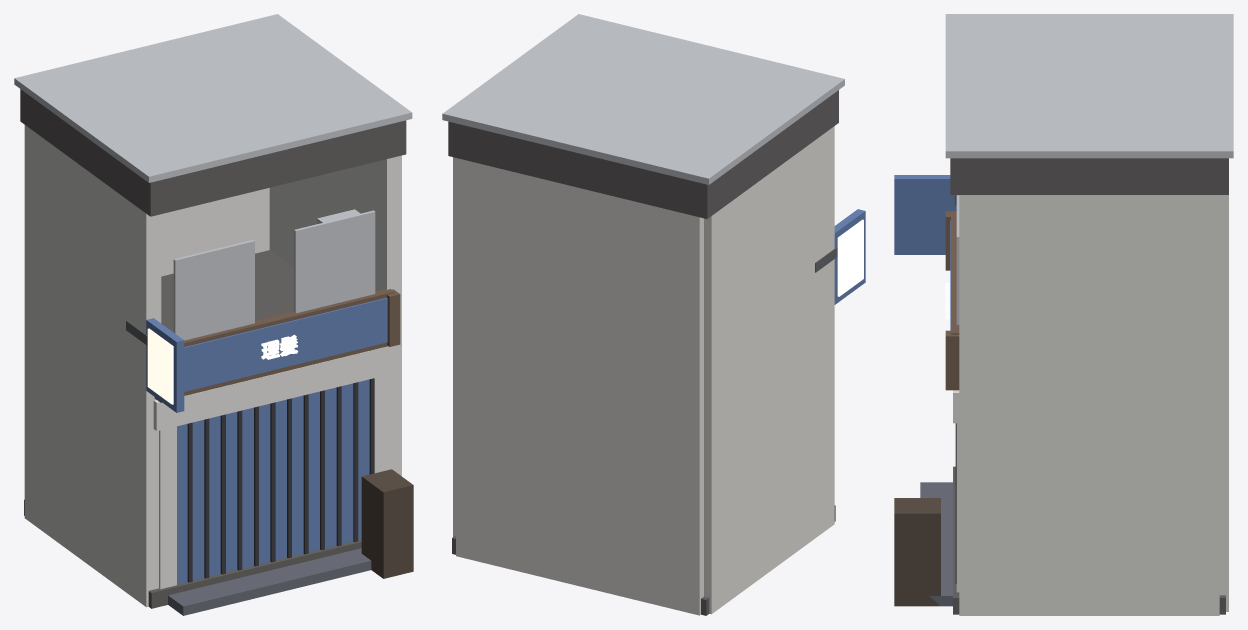
The model's file is prop_shop_tokoya_closed.glb.
The picture shows the model from 3 angles, left to right: view 1: azimuth 30°, elevation 25°; view 2: azimuth 150°, elevation 25°; view 3: azimuth 270°, elevation 25°; orthographic projection. The views are drawn at different scales.
Visible parts, largest first — view 1: shop_tokoya_closed; view 2: shop_tokoya_closed; view 3: shop_tokoya_closed.
Boxes of the visible parts, x1=… form: shop_tokoya_closed: x1=14, y1=14, x2=413, y2=615; shop_tokoya_closed: x1=442, y1=14, x2=865, y2=615; shop_tokoya_closed: x1=894, y1=14, x2=1233, y2=615.
Size of the model in its own units: 3.5 by 5.54 by 3.65.
